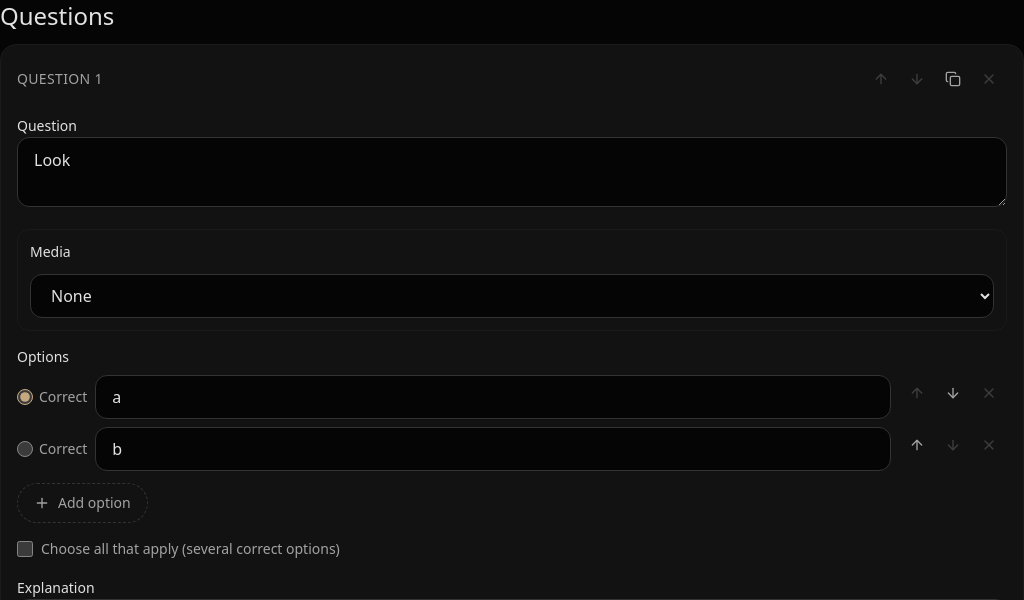
Test: MediaEditor › emoji and read-aloud media
Select "Emoji" in the dropdown labelled "Media" at (512, 296), box [30,274,994,318]
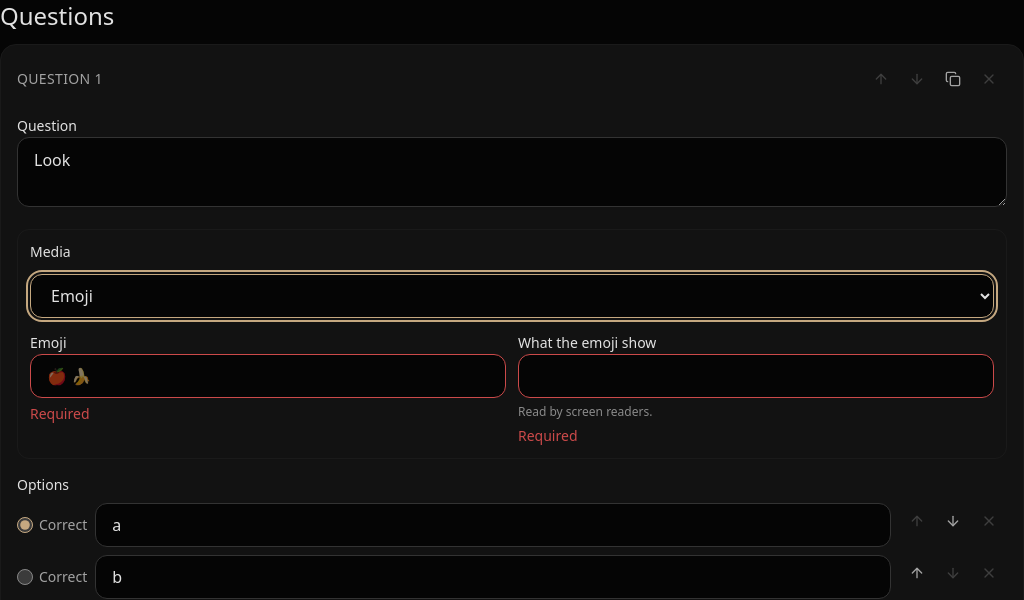
Type "🍎" into the field labelled "Emoji" at (268, 376), box [30,354,506,398]
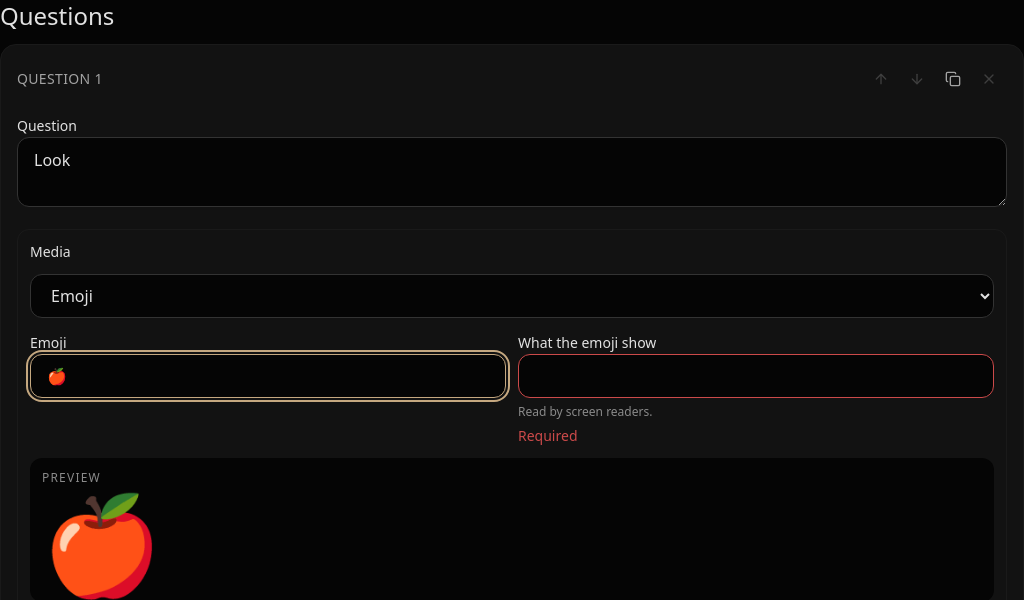
Type "An apple" into the field labelled "What the emoji show" at (756, 376), box [518,354,994,398]
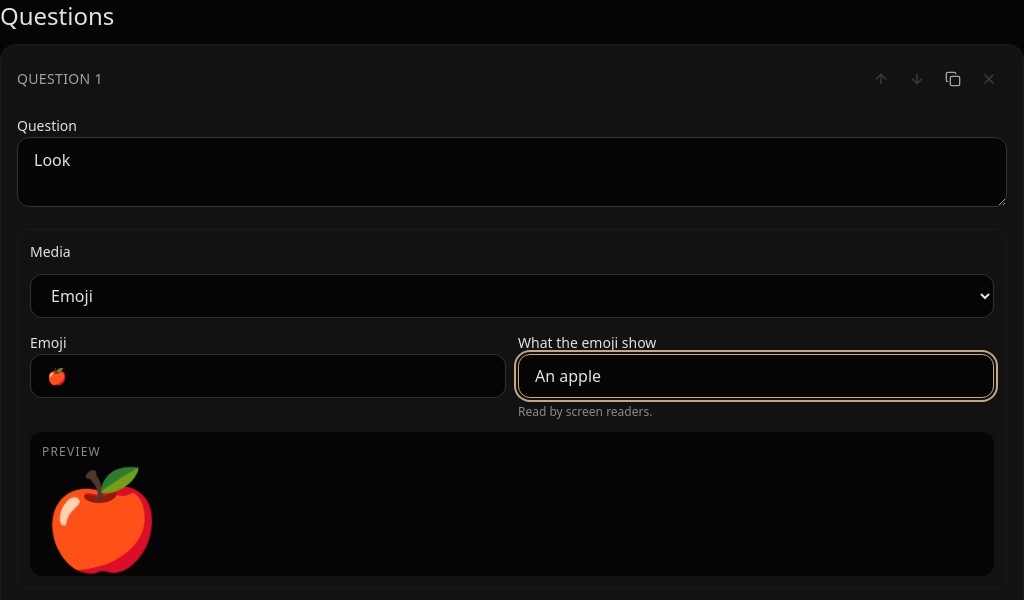
expect the picture named "An apple" is shown: met, box [42,450,171,581]
